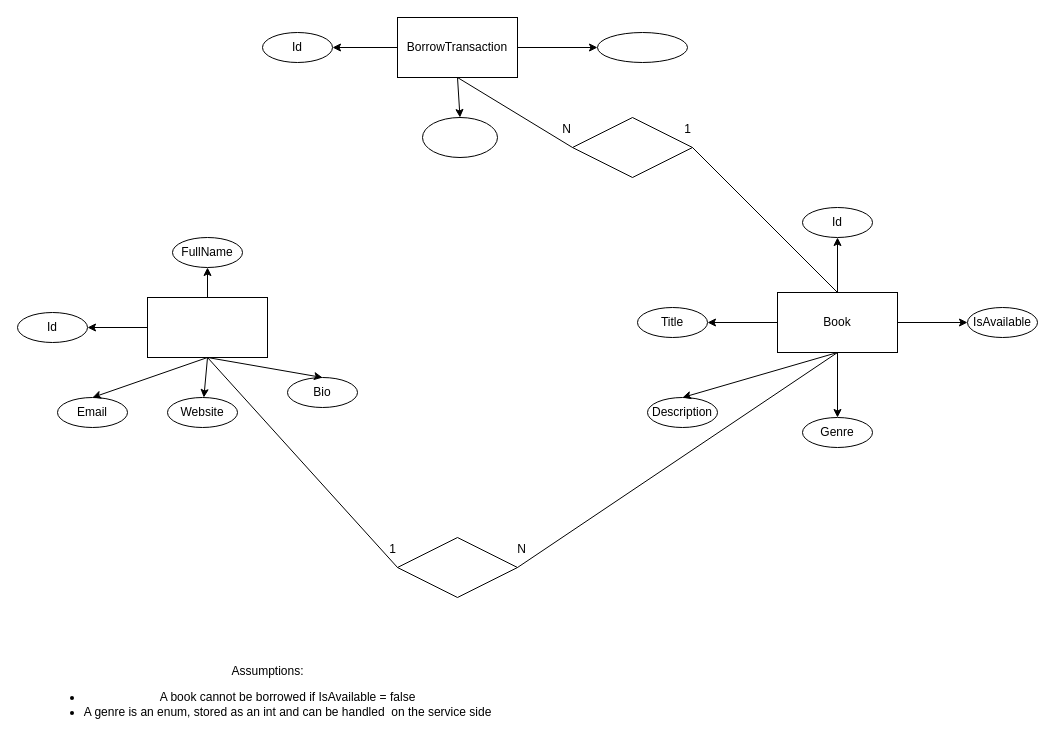
This 1055x755 diagram has some shape labels left out. The shapes that lost their labels are listed below. From the top down, each one's box as (x1, y1, x2, y2) in pixels, then its label:
(596, 32, 688, 62): ReturnedDate
(422, 116, 498, 158): BorrowedDate
(572, 116, 692, 178): Borrows
(146, 296, 268, 358): Author
(396, 536, 518, 598): Produces
